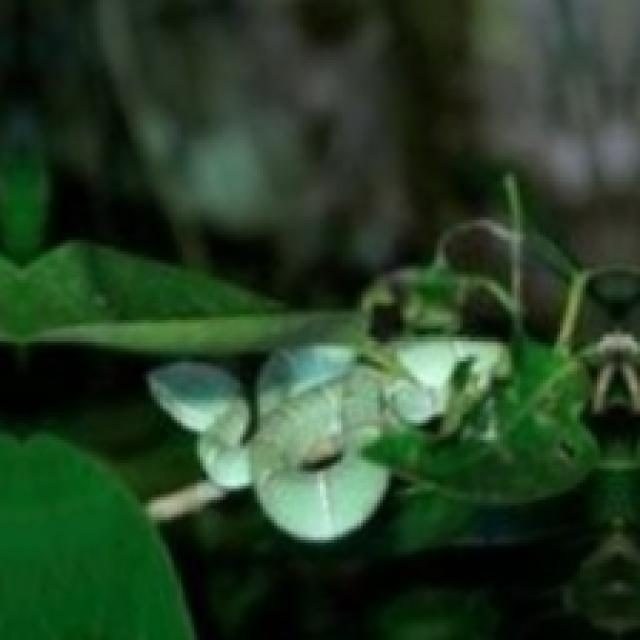north ph temple pitviper: (149, 200, 637, 546), (583, 331, 637, 411)
